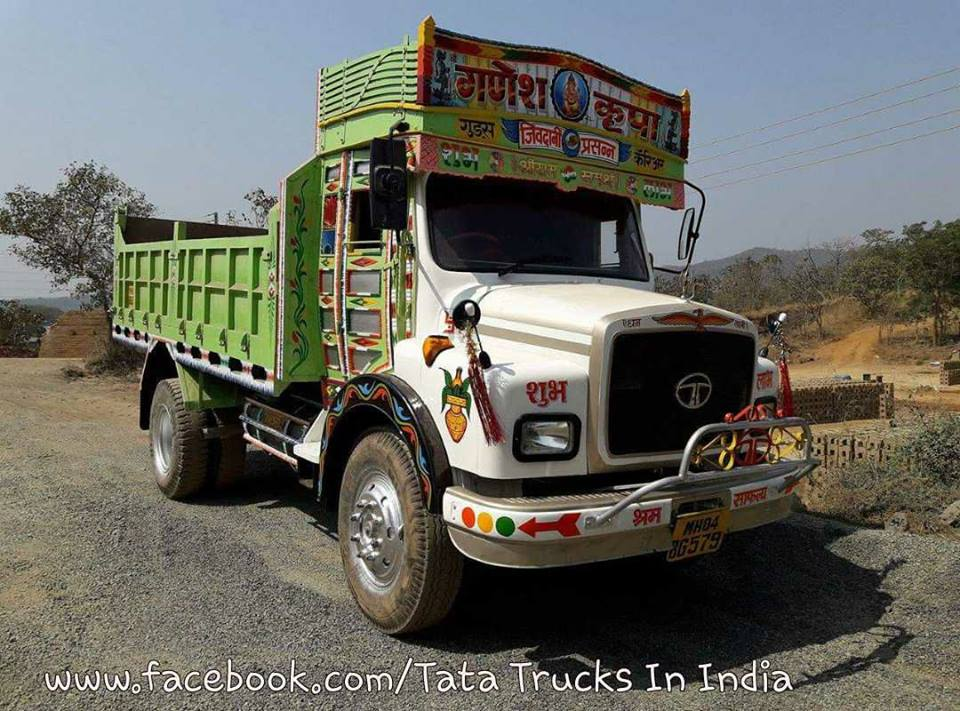truck: (109, 22, 796, 598)
